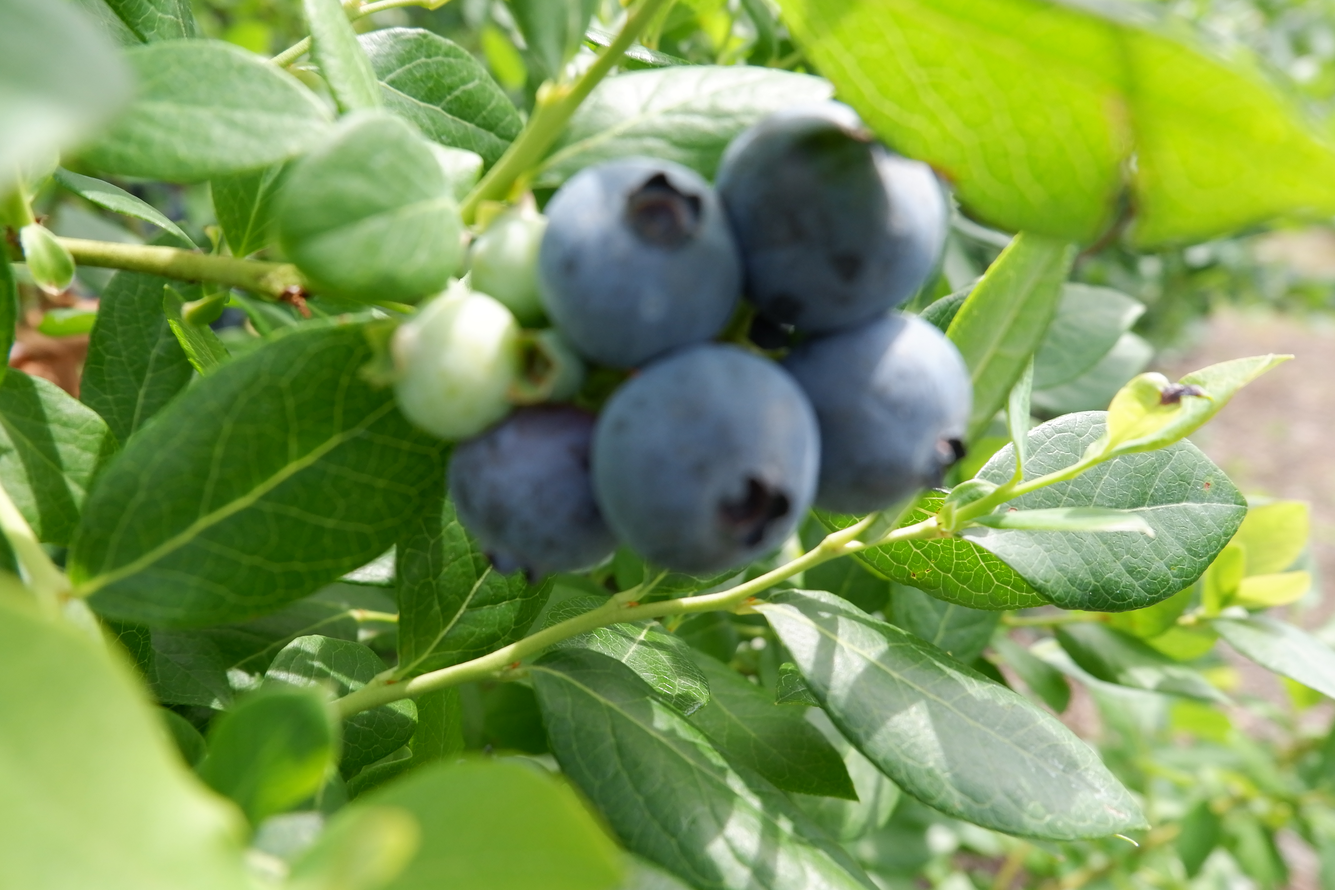Immature: (394, 282, 522, 436), (472, 218, 545, 325), (511, 330, 587, 403)
Mature: (596, 350, 823, 574), (722, 111, 947, 326), (542, 161, 739, 361), (789, 316, 967, 514), (450, 404, 614, 580)
